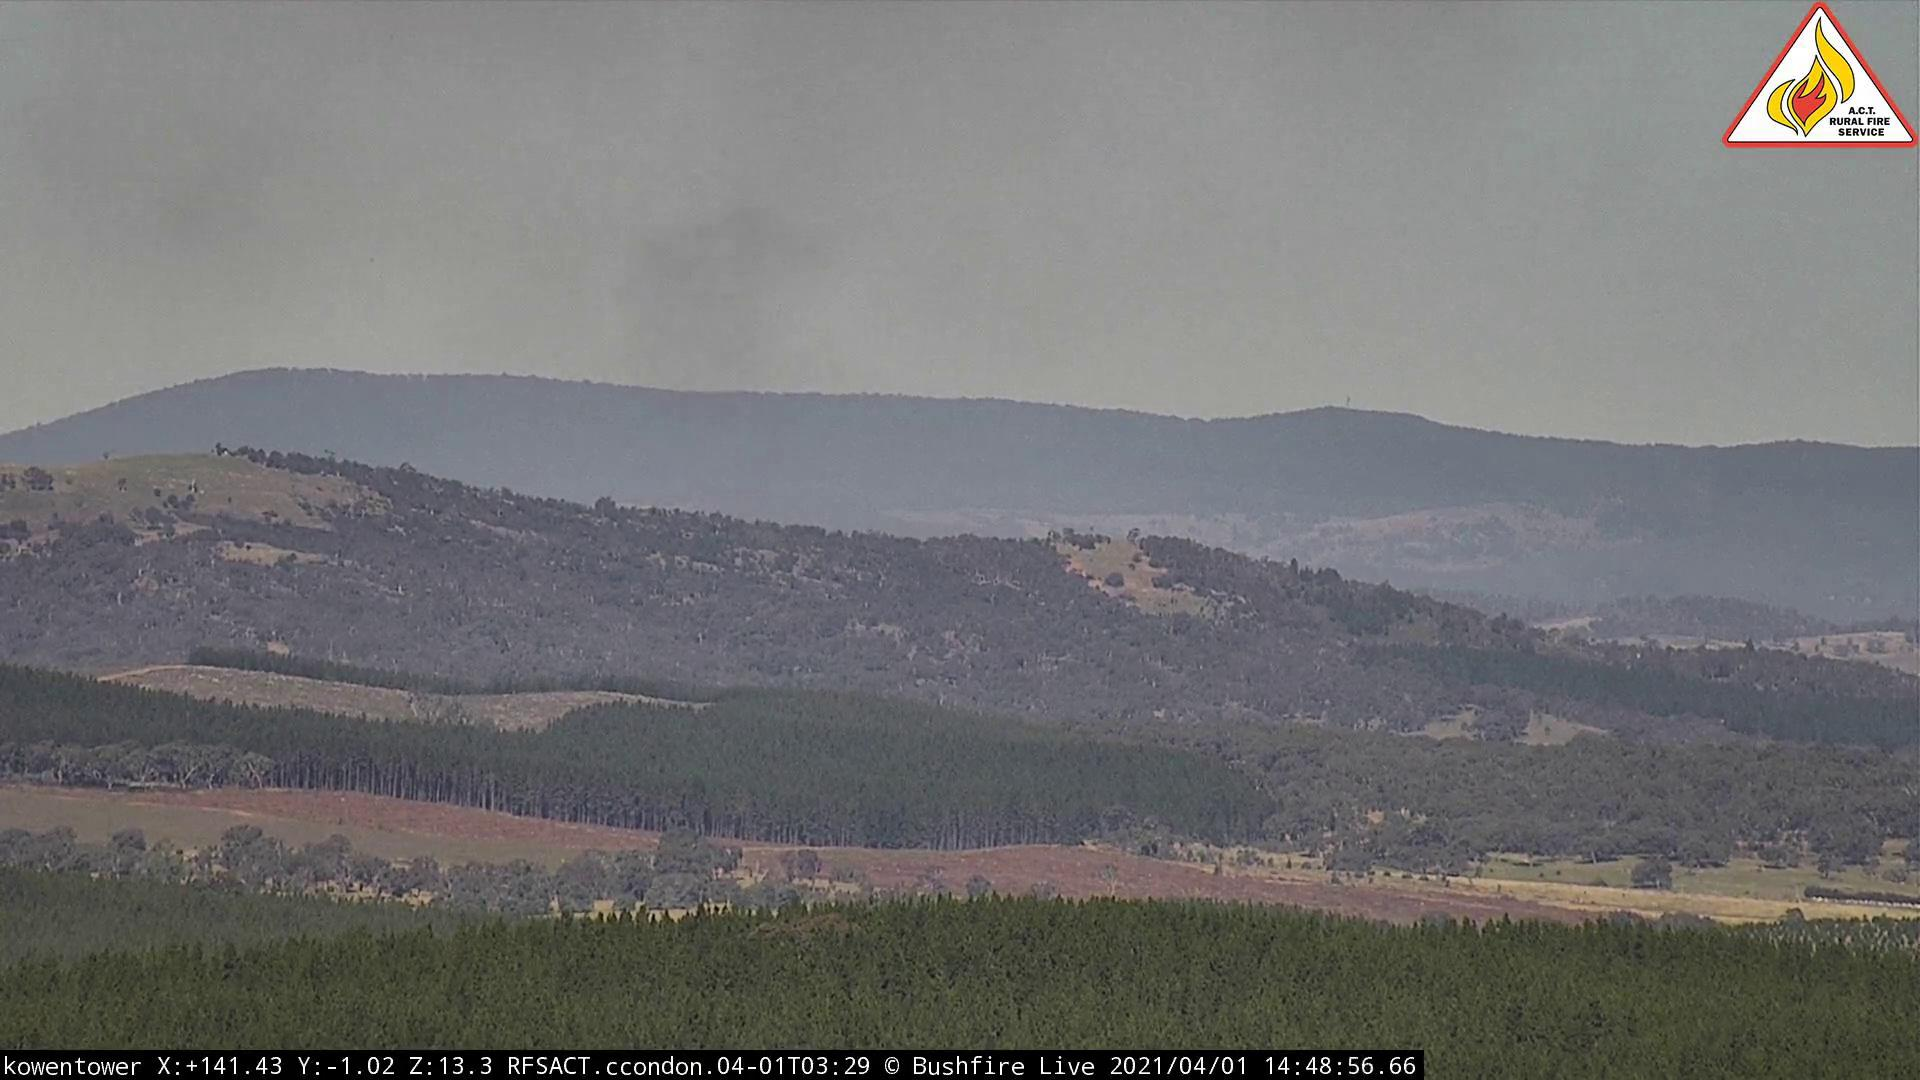Smoke: (555, 214, 895, 491)
